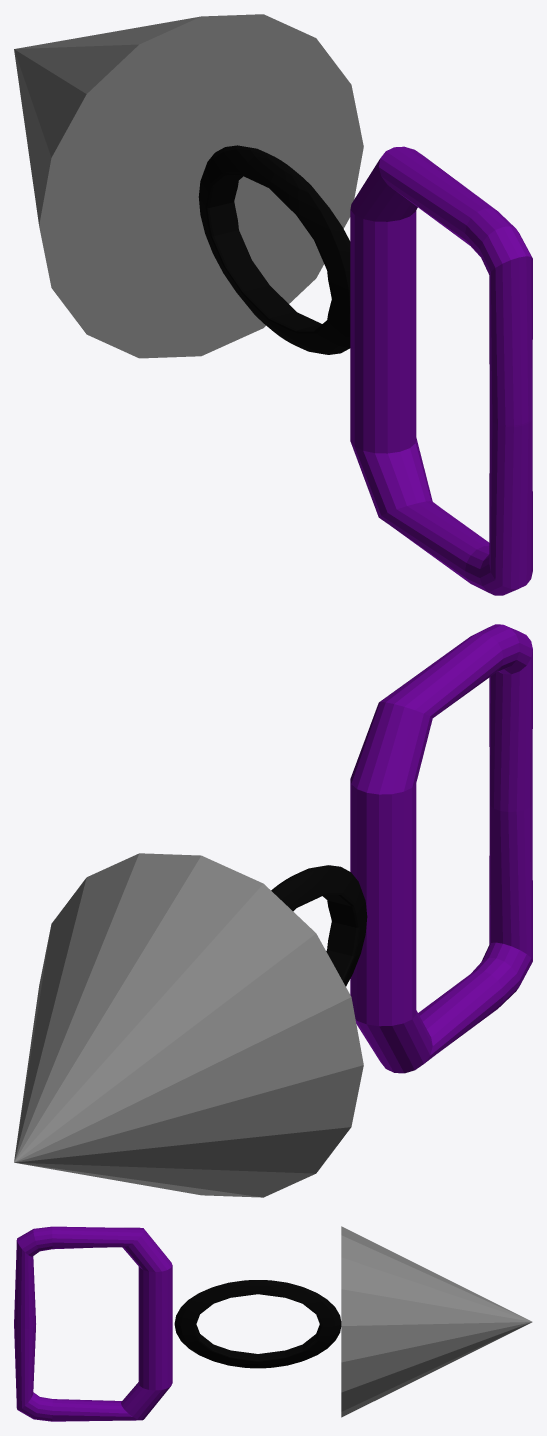
Rendered from hookshot.fbx.
3 renders of one model, top to bottom at view 1: azimuth 30°, elevation 25°; view 2: azimuth 150°, elevation 25°; view 3: azimuth 270°, elevation 25°, orthographic. The views are drawn at different scales.
Parts seen in each view (by area): view 1: Hook, Handle; view 2: Hook, Handle; view 3: Hook, Handle.
Part boxes in pixels (bbox=[...]): Hook: bbox=[14, 14, 363, 358]; Handle: bbox=[350, 146, 532, 595]; Hook: bbox=[14, 853, 367, 1197]; Handle: bbox=[350, 624, 532, 1073]; Hook: bbox=[174, 1226, 532, 1417]; Handle: bbox=[14, 1226, 172, 1421].
Size of the model in its own units: 35.04 by 94.95 by 38.96.
1 material, 1 textured.
